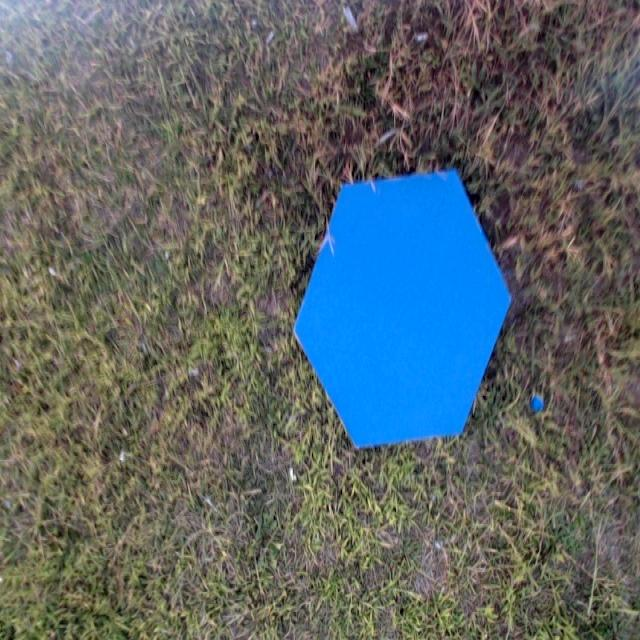blue_hexagon: (292, 168, 510, 453)
